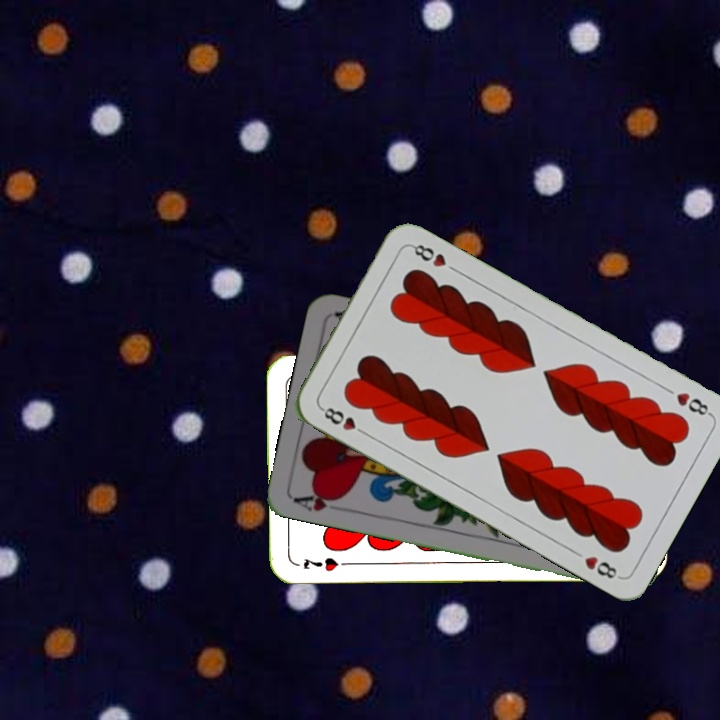H7: (299, 553, 341, 574)
H8: (316, 403, 371, 438), (672, 388, 715, 418)
HA: (290, 487, 349, 514)
